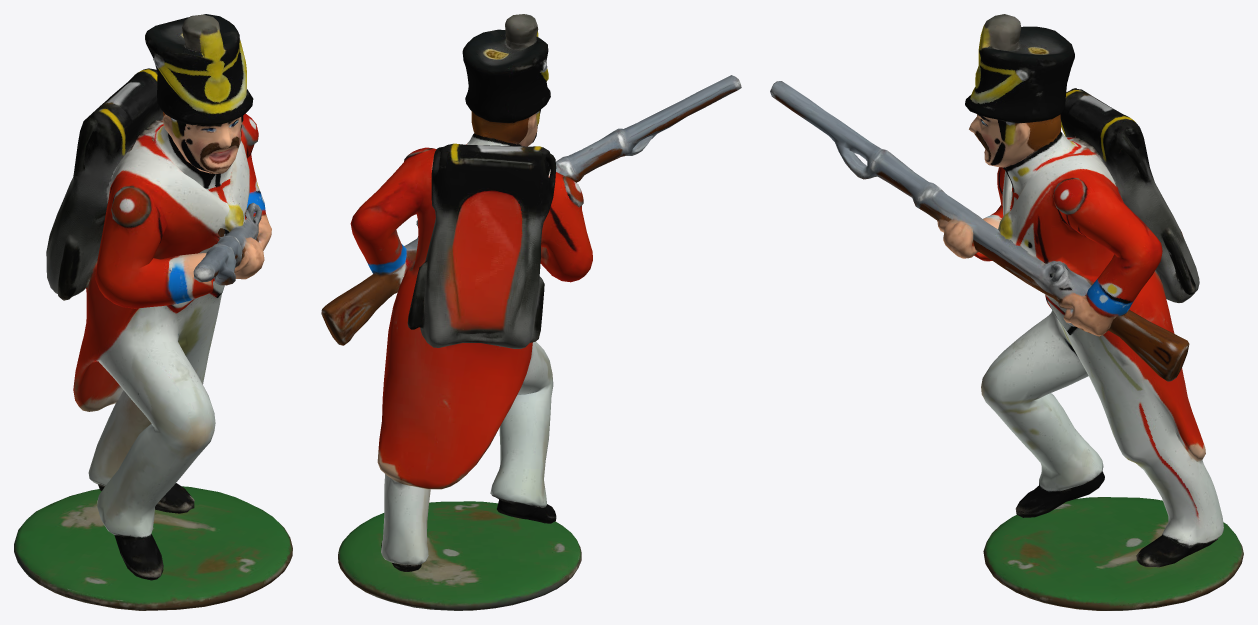
Rendered from inf_charge.glb.
The picture shows the model from 3 angles, left to right: view 1: azimuth 30°, elevation 25°; view 2: azimuth 150°, elevation 25°; view 3: azimuth 270°, elevation 25°; orthographic projection. The views are drawn at different scales.
Visible parts, largest first — view 1: world; view 2: world; view 3: world.
Part boxes in pixels (x1=…): world: x1=14, y1=14, x2=292, y2=610; world: x1=321, y1=14, x2=741, y2=610; world: x1=770, y1=14, x2=1243, y2=610.
Bounding box in the file's own units: 0.472 × 0.998 × 0.7983.
Materials: 1 (1 with a texture image).
